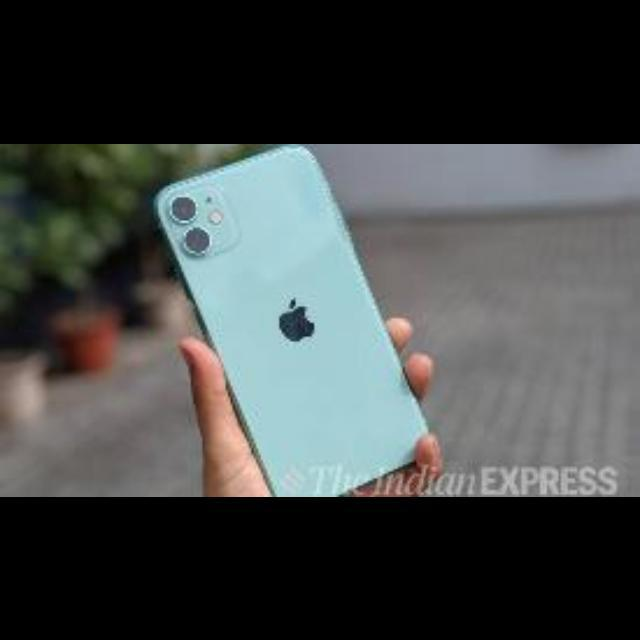Phone: (152, 144, 416, 478)
